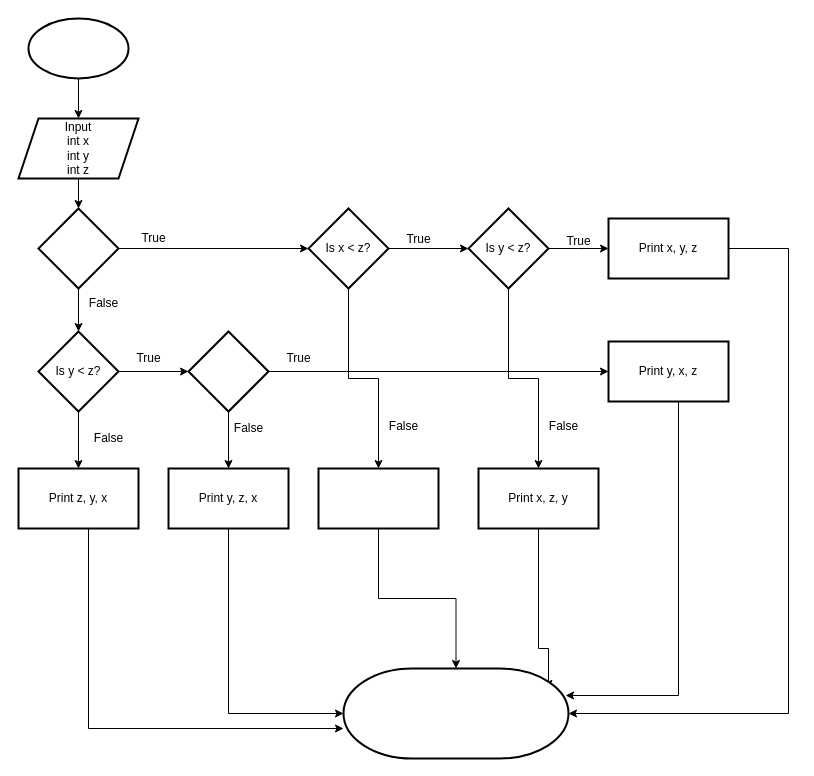
Image size: 814x776. Some labels were removed from this diagram. Each missing label, with the centre of its shape:
"End" belongs at point (455, 713).
"Is x < y?" belongs at point (78, 248).
"Is x < z" belongs at point (228, 371).
"Print z, x, y" belongs at point (378, 498).
"Start" belongs at point (78, 48).
